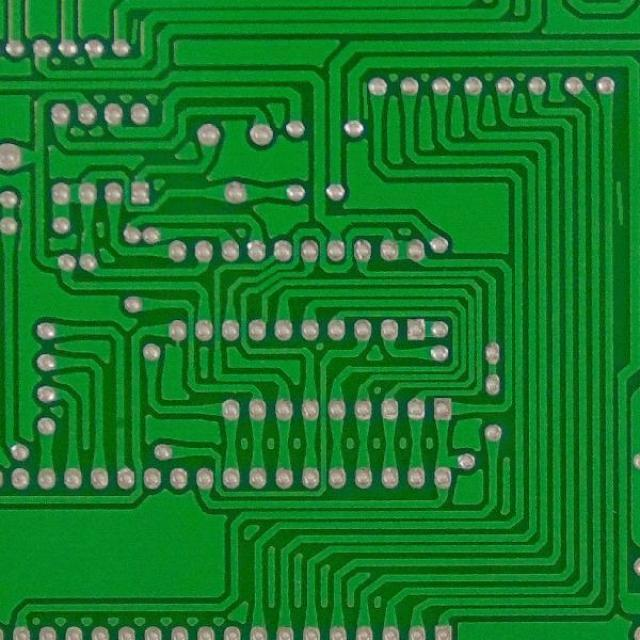Spurious_Cooper: (614, 178, 628, 226), (360, 78, 370, 122), (128, 14, 141, 46)
